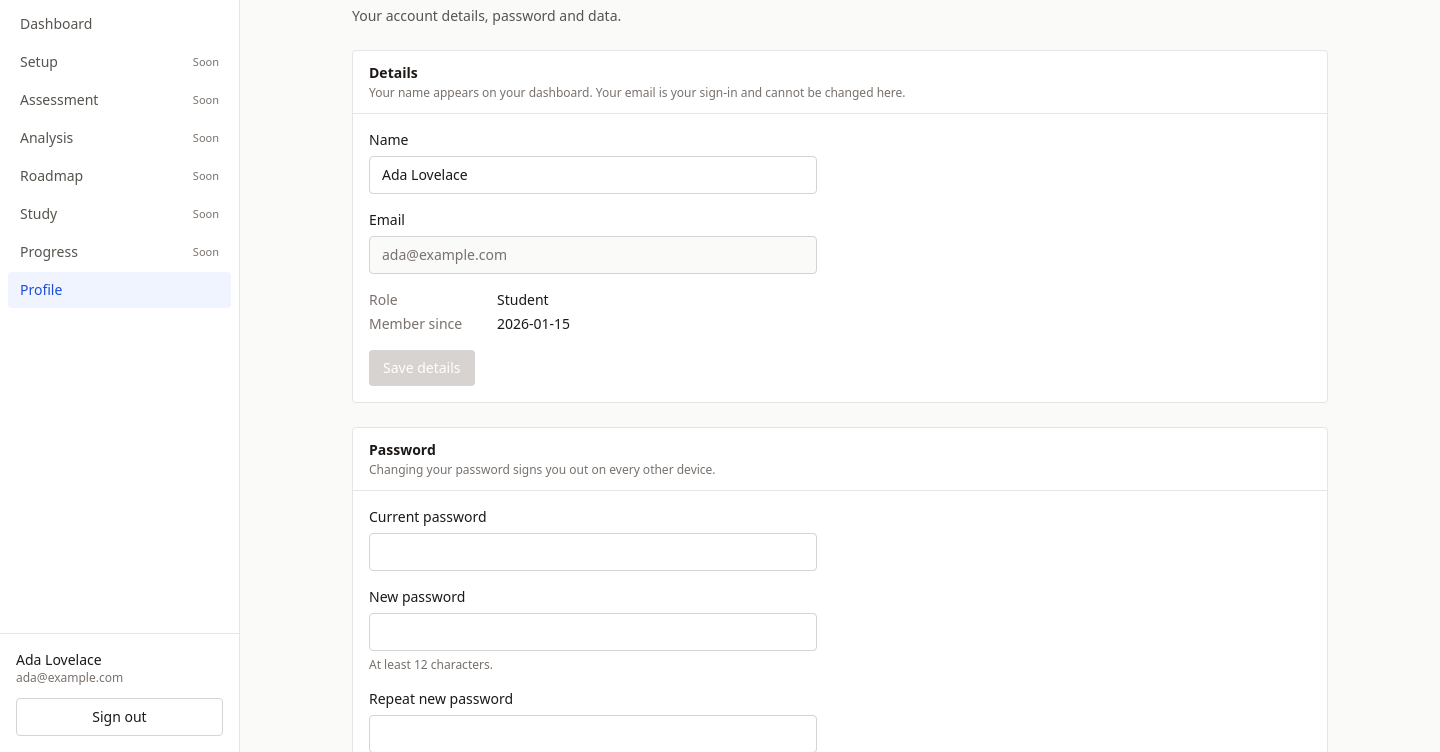
Scenario: ProfilePage › password › changes the password and adopts the new session
The width and height of the screenshot is (1440, 752).
Expected: the button "Save details" is shown, [369,350,474,386]
Type "correct-horse-battery" into the password field labelled "Current password" at (593, 552), box [369,533,817,571]
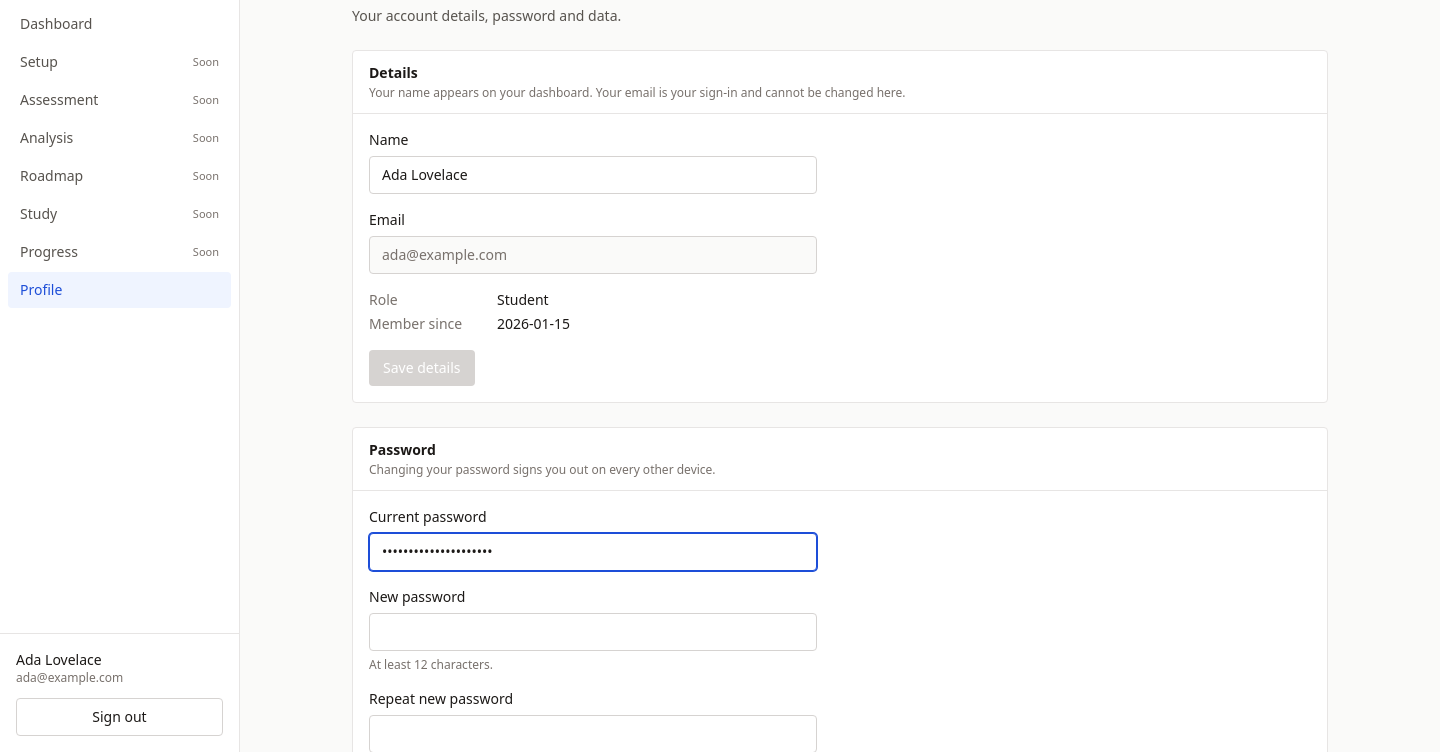
Type "a-brand-new-passphrase" into the password field labelled "New password" at (593, 632), box [369,613,817,651]
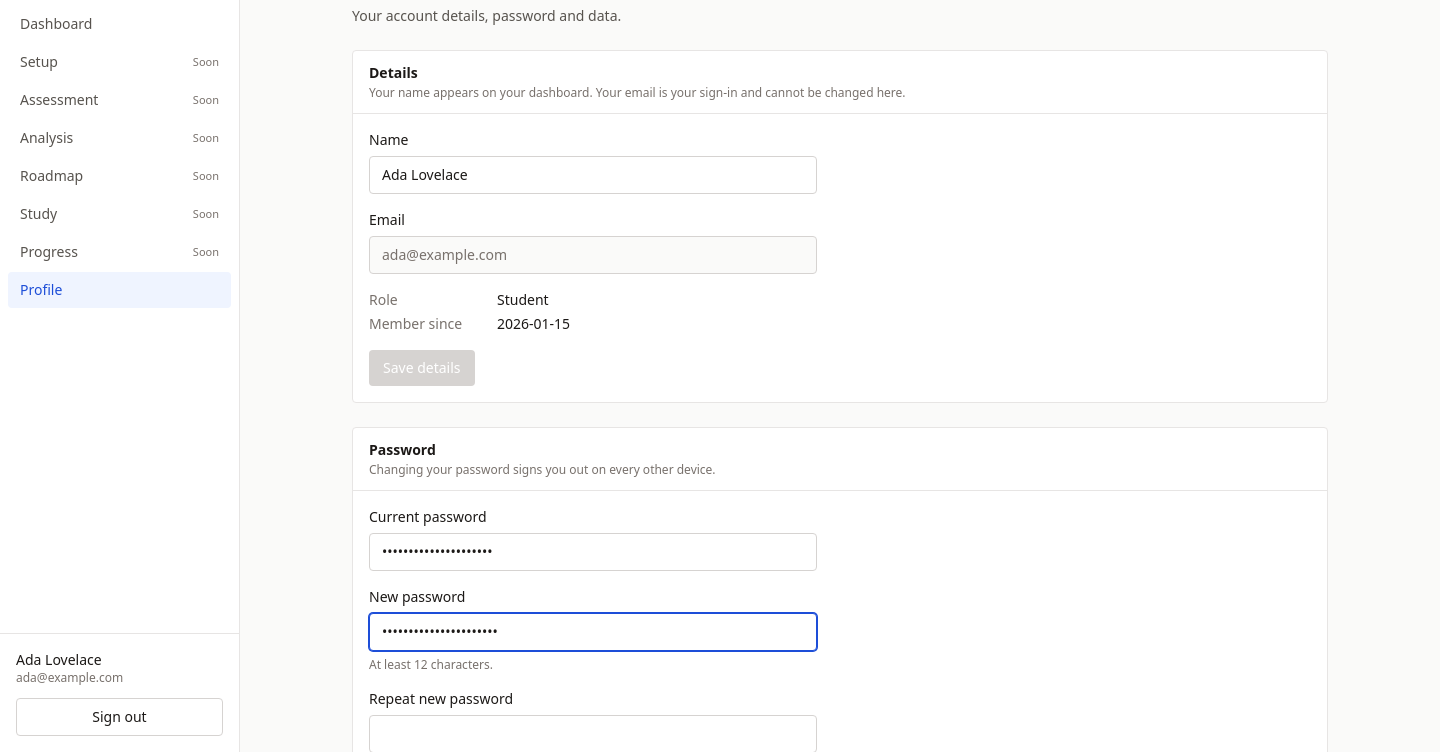
Type "a-brand-new-passphrase" into the password field labelled "Repeat new password" at (593, 734), box [369,715,817,751]
(page scrolled)
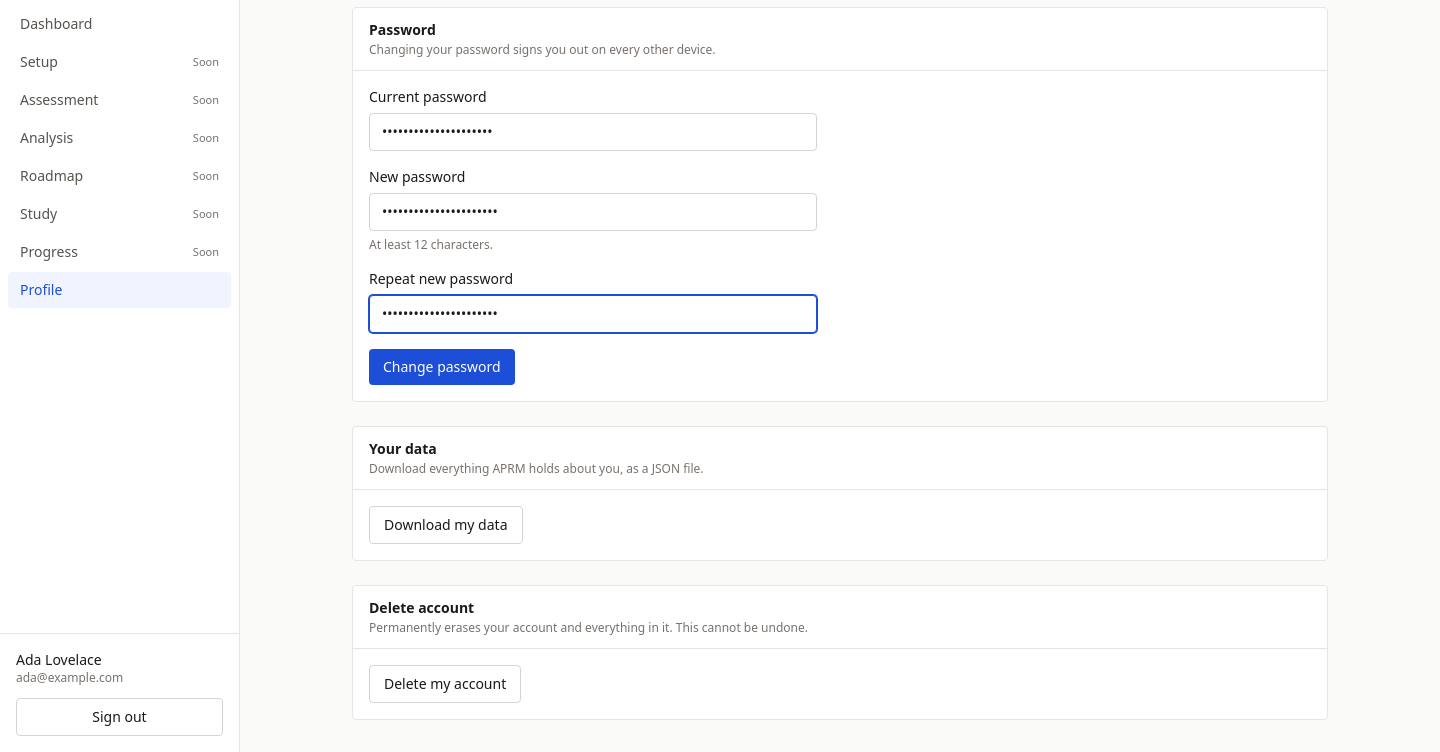
Click the button "Change password" at (442, 367), box [369,349,515,385]
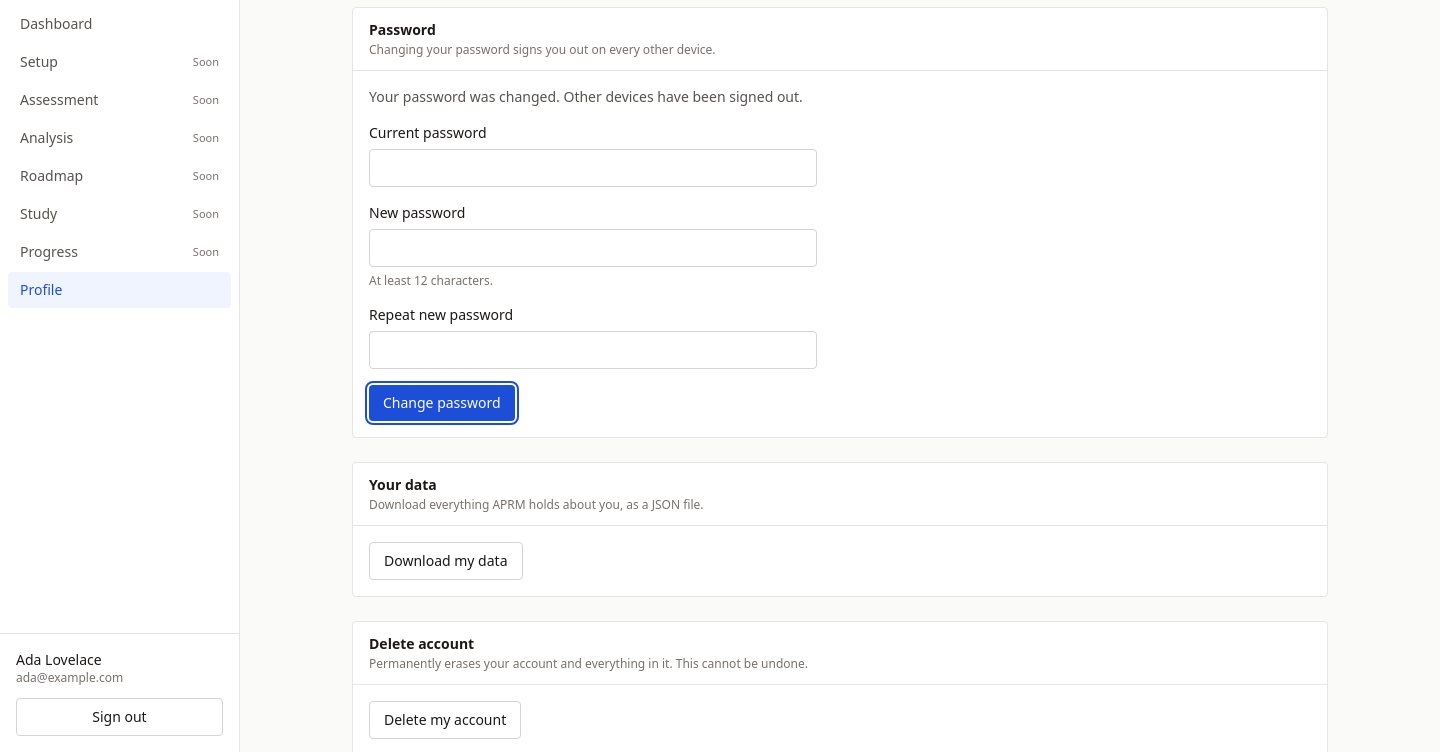
Expected: the text "Your password was changed. Other devices have been signed out." is shown, [369,87,817,107]
Expected: the password field labelled "Current password" is empty, [369,149,817,187]
